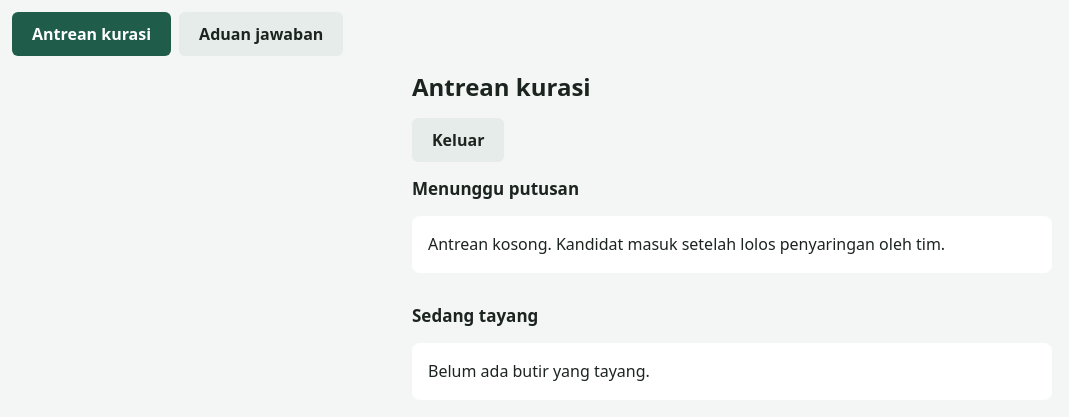
Test: cangkang kurator › kembali ke antrean
Expected: the heading "Antrean kurasi" is shown, [412,70,591,103]
Click the button "Aduan jawaban" at (261, 34), box [179,12,343,56]
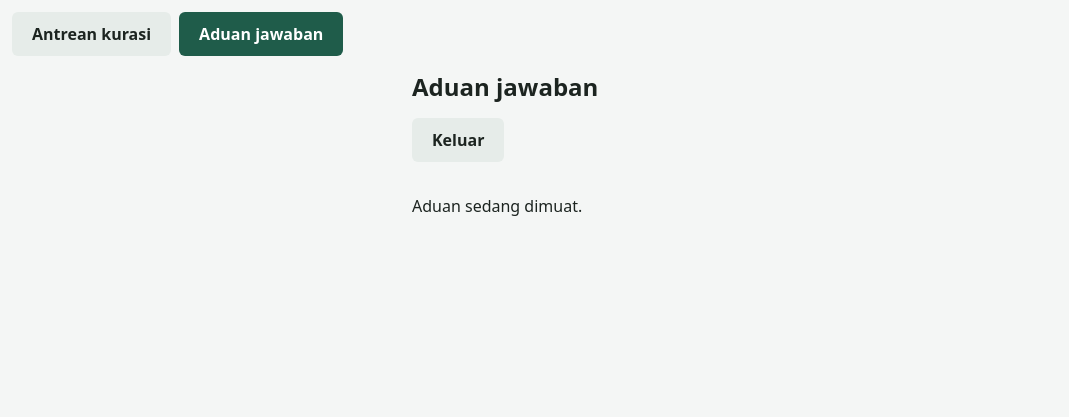
Result: the heading "Aduan jawaban" is shown at [412,70,598,103]
Click the button "Antrean kurasi" at (92, 34), box [12,12,171,56]
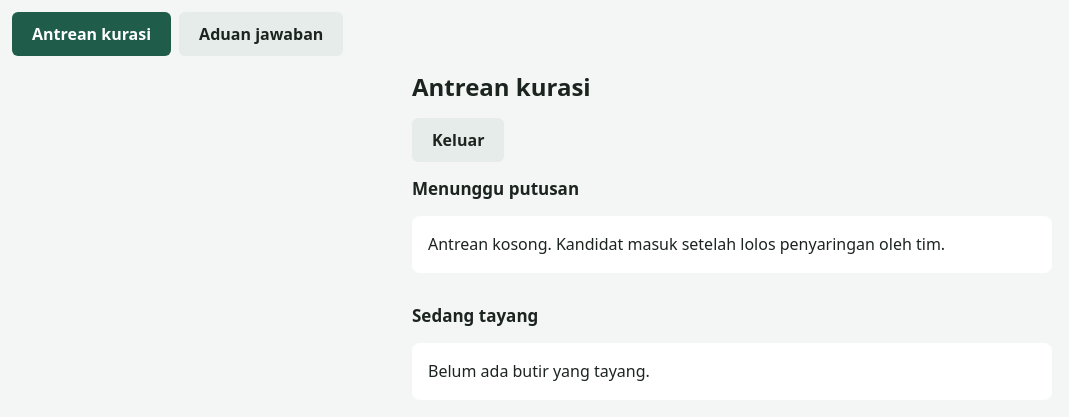
Result: the heading "Antrean kurasi" is shown at [412,70,591,103]
